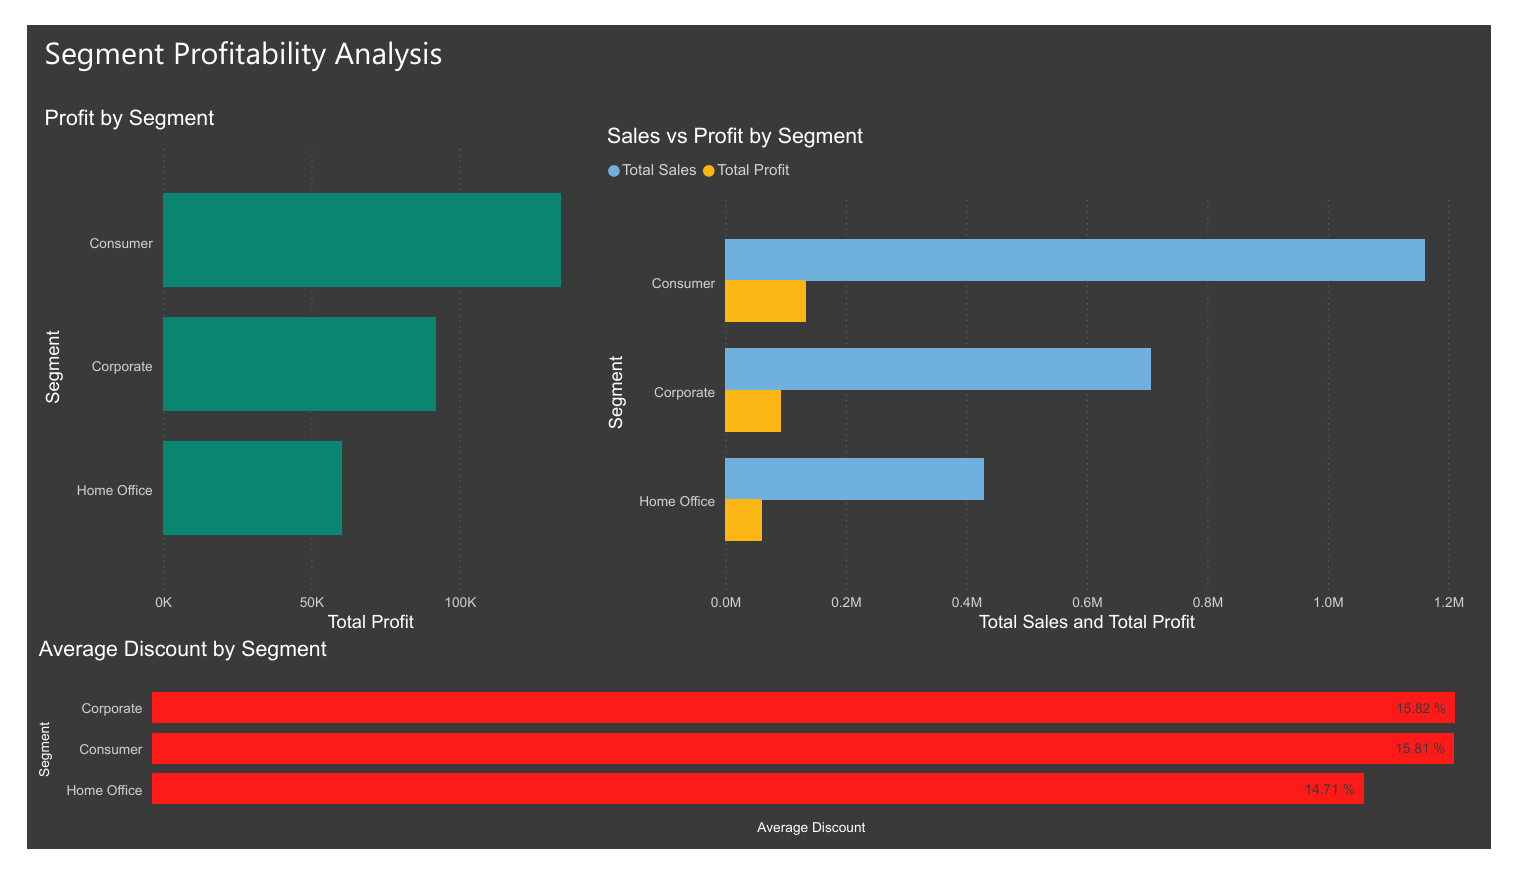

The dashboard page shown, as its layout file describes it:
{"tool":"powerbi","page":{"name":" Segment Analysis","canvas":[1280,720],"ordinal":3},"visuals":[{"type":"textbox","box":[9.6,0,366.4,50.8],"z":0},{"type":"clusteredBarChart","title":"Profit by Segment","fields":{"Category":["SampleSuperstore.Segment"],"Y":["SampleSuperstore.Total Profit"]},"box":[9.6,70,492.6,465.2],"z":1000},{"type":"clusteredBarChart","title":"Sales vs Profit by Segment","fields":{"Category":["SampleSuperstore.Segment"],"Y":["SampleSuperstore.Total Sales","SampleSuperstore.Total Profit"]},"box":[502.2,86.4,760.2,448.7],"z":2000},{"type":"clusteredBarChart","title":"Average Discount by Segment","fields":{"Category":["SampleSuperstore.Segment"],"Y":["SampleSuperstore.Average Discount"]},"box":[9.6,535.2,1252.8,172.9],"z":3000}]}

Visuals, with their boxes in screenshot pixels (x1, y1, x2, y2), scaled from the page's 1280x720 canvas onto the 1517x870 screenshot:
textbox: 11 0 446 61
"Profit by Segment" clusteredBarChart: 11 85 595 647
"Sales vs Profit by Segment" clusteredBarChart: 595 104 1496 647
"Average Discount by Segment" clusteredBarChart: 11 647 1496 856
